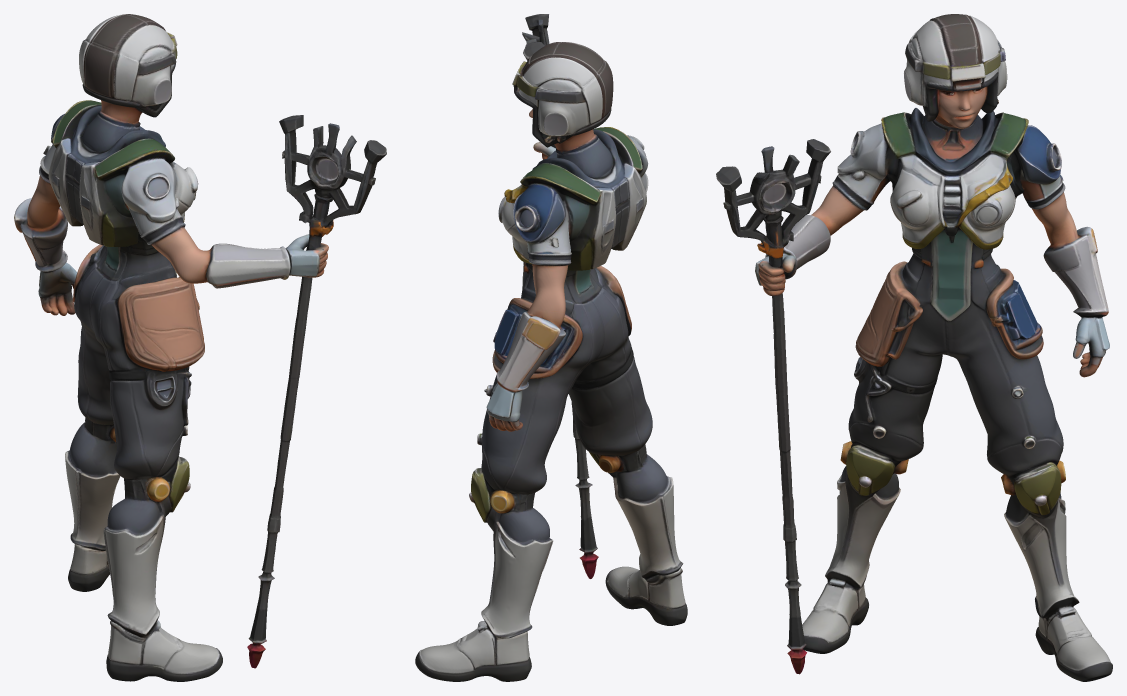
The picture shows the model from 3 angles, left to right: view 1: azimuth 30°, elevation 25°; view 2: azimuth 150°, elevation 25°; view 3: azimuth 270°, elevation 25°; orthographic projection. The views are drawn at different scales.
Parts seen in each view (by area): view 1: tripo_node_e3c45d10-56cf-4375-a8ea-9e5475124fe6; view 2: tripo_node_e3c45d10-56cf-4375-a8ea-9e5475124fe6; view 3: tripo_node_e3c45d10-56cf-4375-a8ea-9e5475124fe6.
Part boxes in pixels (x1,y1,x2,y2): tripo_node_e3c45d10-56cf-4375-a8ea-9e5475124fe6: (14,14,386,681); tripo_node_e3c45d10-56cf-4375-a8ea-9e5475124fe6: (415,14,687,681); tripo_node_e3c45d10-56cf-4375-a8ea-9e5475124fe6: (716,14,1112,681).
Bounding box in the file's own units: 0.3817 × 1 × 0.5719.
1 material, 1 textured.
